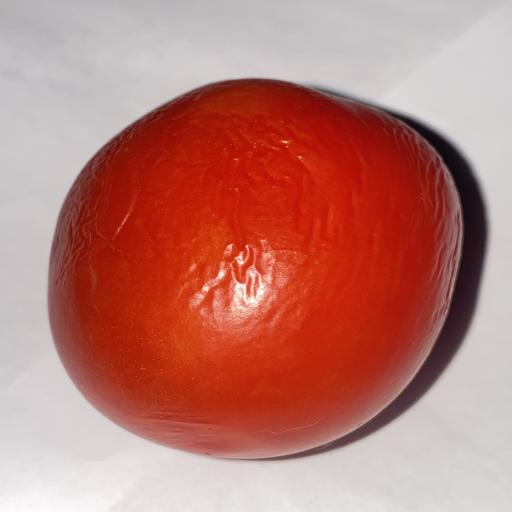spoiled: (49, 79, 462, 458)
